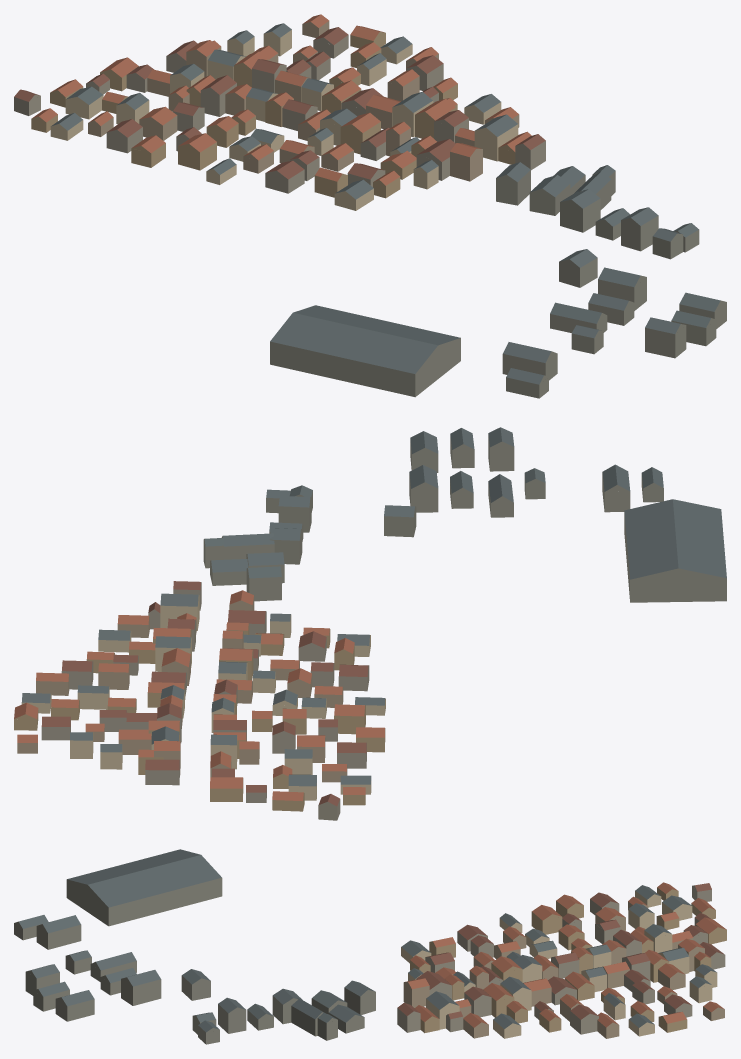
3 renders of one model, top to bottom at view 1: azimuth 30°, elevation 25°; view 2: azimuth 150°, elevation 25°; view 3: azimuth 270°, elevation 25°, orthographic. The views are drawn at different scales.
Visible parts, largest first — view 1: C_4_-3; view 2: C_4_-3; view 3: C_4_-3.
Boxes of the visible parts, x1=… form: C_4_-3: x1=14, y1=14, x2=726, y2=398; C_4_-3: x1=14, y1=427, x2=726, y2=820; C_4_-3: x1=14, y1=849, x2=726, y2=1044.
Bounding box in the file's own units: 218 × 15.82 × 372.
